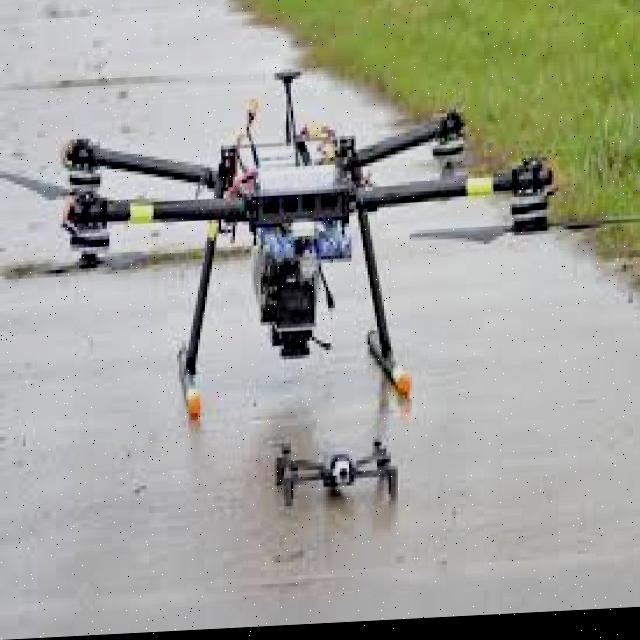drone: (22, 69, 604, 438), (264, 421, 422, 537)
